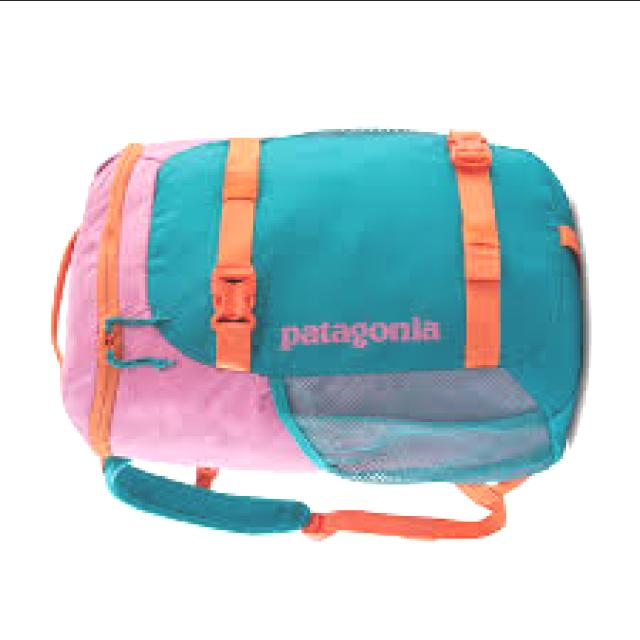backpack: (49, 129, 584, 545)
